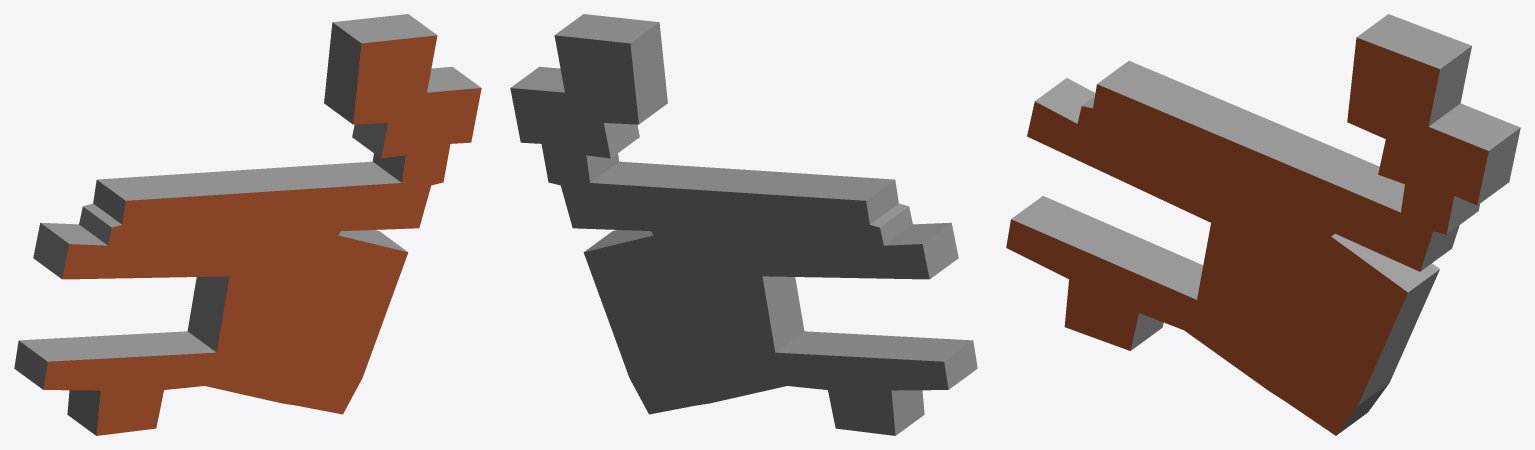
Rendered from construction_3133_assumed_A_Casa_h6m.obj.
3 renders of one model, left to right at view 1: azimuth 30°, elevation 25°; view 2: azimuth 150°, elevation 25°; view 3: azimuth 330°, elevation 25°, orthographic. The views are drawn at different scales.
Visible parts, largest first — view 1: construction_3133_assumed_A_Casa; view 2: construction_3133_assumed_A_Casa; view 3: construction_3133_assumed_A_Casa.
Boxes of the visible parts, <box> form: construction_3133_assumed_A_Casa: <box>14,14,481,435</box>; construction_3133_assumed_A_Casa: <box>510,14,977,435</box>; construction_3133_assumed_A_Casa: <box>1006,14,1520,435</box>.
Size of the model in its own units: 52.18 by 41.69 by 6.
